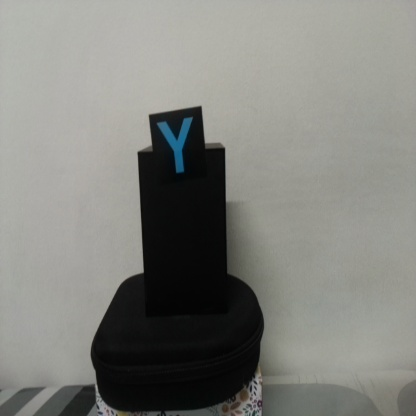id_14: (148, 112, 205, 180)
